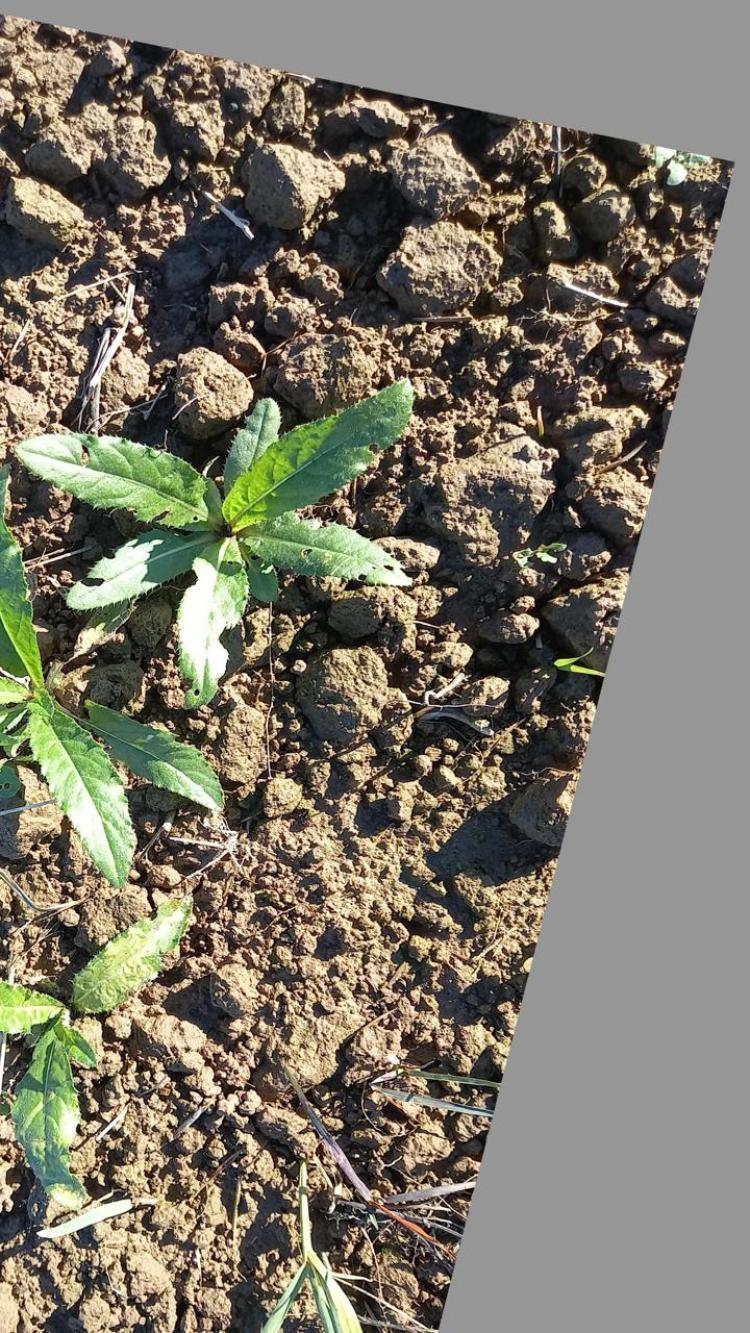osot: (15, 360, 448, 686), (0, 483, 246, 883)
